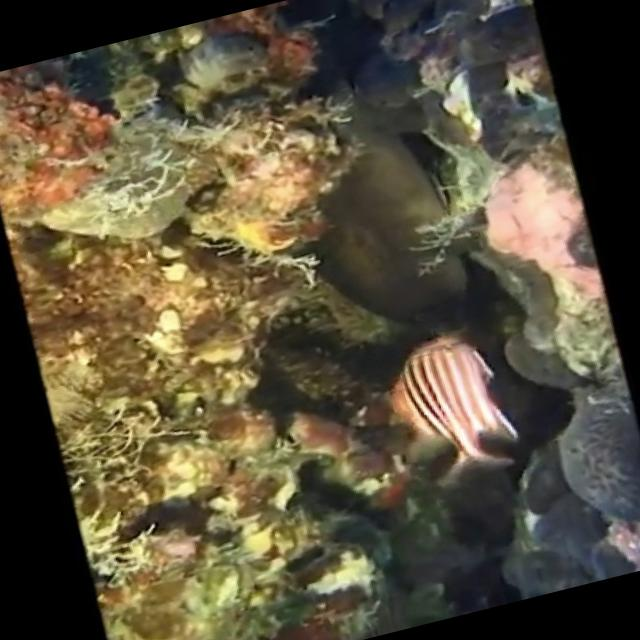Asker Baligi: (370, 316, 528, 492)
